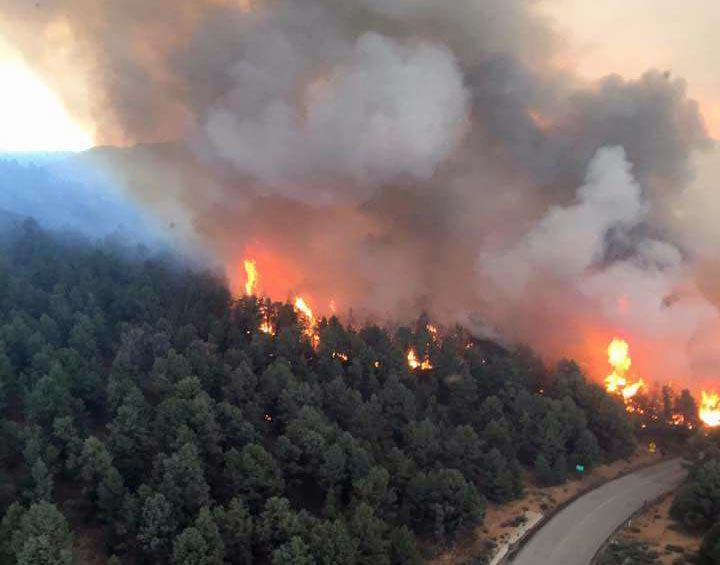fire: (233, 236, 330, 343), (592, 333, 653, 413), (687, 380, 720, 431), (402, 340, 439, 378)
